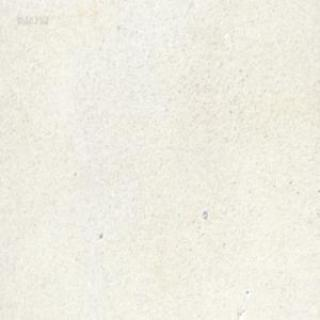Washertrack_idkeyframe: (201, 209, 207, 219)
